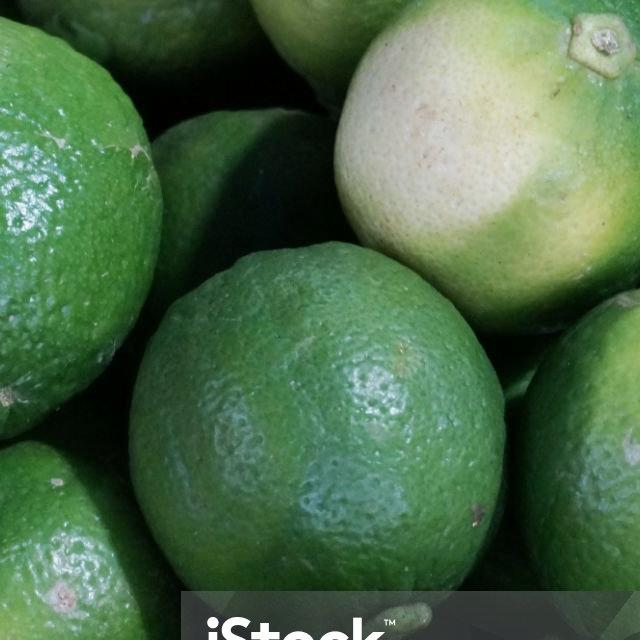lime: (336, 0, 640, 310), (0, 16, 164, 453)
